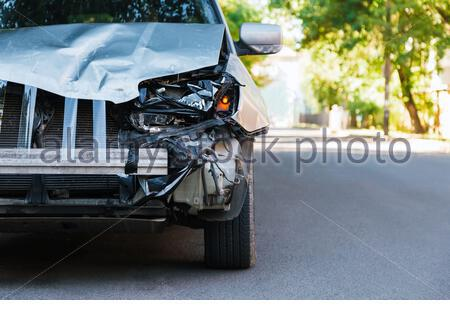bonnet-dent: (6, 27, 228, 102)
front-bumper-dent: (78, 77, 249, 216)
